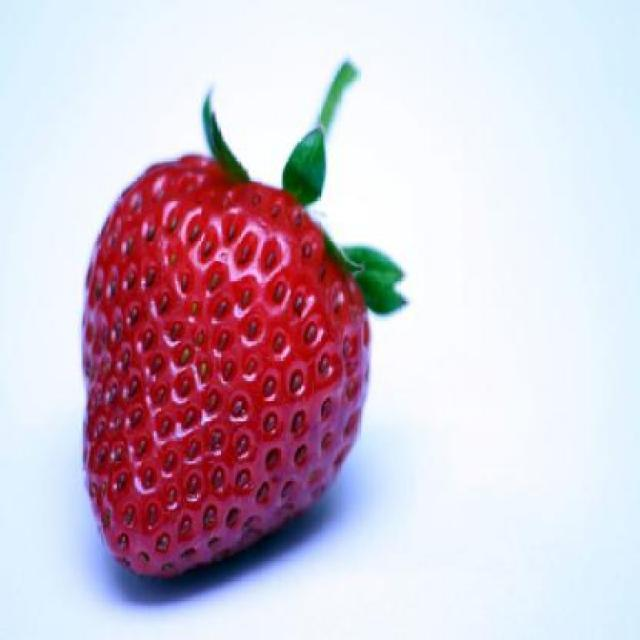Strawberry: (65, 121, 392, 604)
